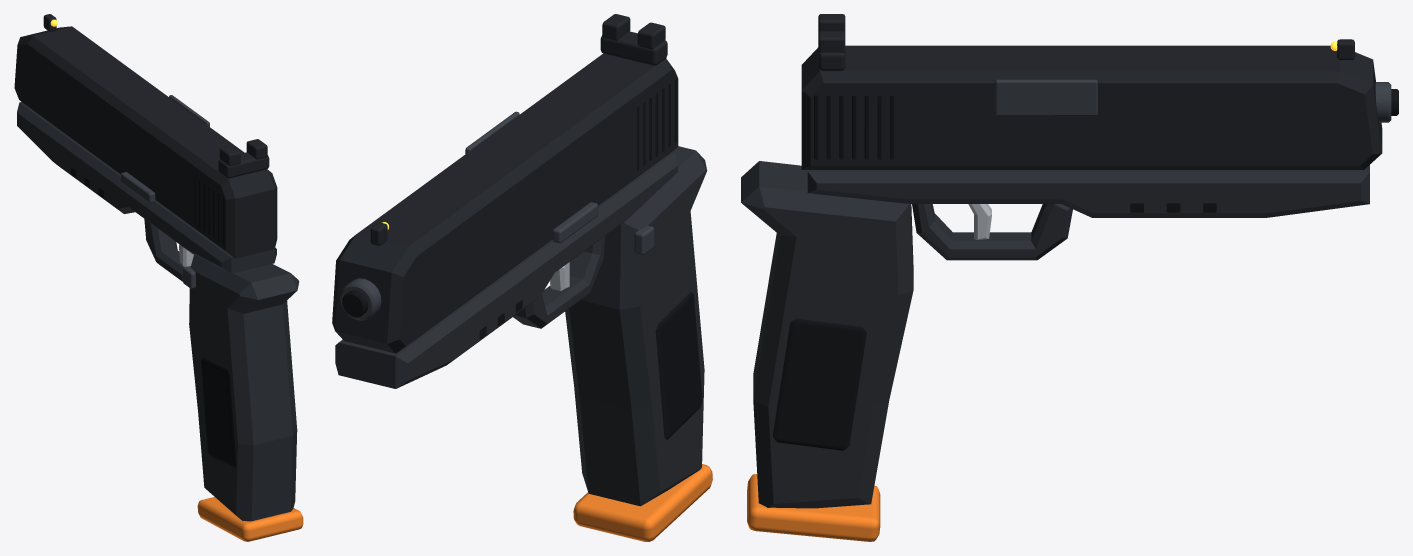
Rendered from pistol.glb.
The picture shows the model from 3 angles, left to right: view 1: azimuth 30°, elevation 25°; view 2: azimuth 150°, elevation 25°; view 3: azimuth 270°, elevation 25°; orthographic projection. The views are drawn at different scales.
Visible parts, largest first — view 1: slide, grip, frame, grip_stipple, mag_baseplate, trigger_guard, rear_sight_base, slide_stop, rear_sight_R, rear_sight_L; view 2: slide, grip, frame, grip_stipple, mag_baseplate, trigger_guard, rear_sight_base, slide_stop, barrel_crown, rear_sight_R, rear_sight_L, bore (+1 smaller); view 3: slide, grip, frame, grip_stipple, trigger_guard, mag_baseplate, ejection_port.
Part boxes in pixels (box(x1,y1,x2,y2)): slide: box(14, 26, 277, 258); grip: box(189, 255, 299, 521); frame: box(17, 102, 276, 273); grip_stipple: box(201, 358, 236, 467); mag_baseplate: box(197, 497, 303, 541); trigger_guard: box(144, 219, 190, 281); rear_sight_base: box(218, 152, 269, 178); slide_stop: box(120, 172, 155, 203); rear_sight_R: box(219, 145, 240, 165); rear_sight_L: box(246, 139, 267, 159); slide: box(332, 53, 678, 353); grip: box(565, 146, 707, 506); frame: box(335, 151, 677, 388); grip_stipple: box(655, 292, 702, 439); mag_baseplate: box(573, 464, 712, 541); trigger_guard: box(513, 236, 605, 328); rear_sight_base: box(600, 31, 667, 65); slide_stop: box(552, 202, 598, 243); barrel_crown: box(340, 278, 381, 320); rear_sight_R: box(637, 22, 665, 49); rear_sight_L: box(602, 14, 630, 40); bore: box(342, 290, 368, 317); slide: box(801, 45, 1382, 169); grip: box(741, 161, 913, 508); frame: box(807, 165, 1369, 217); grip_stipple: box(772, 318, 866, 450); trigger_guard: box(912, 204, 1072, 260); mag_baseplate: box(747, 474, 880, 541); ejection_port: box(995, 79, 1097, 115).
Size of the model in its own units: 0.0333 by 0.1825 by 0.2175.
